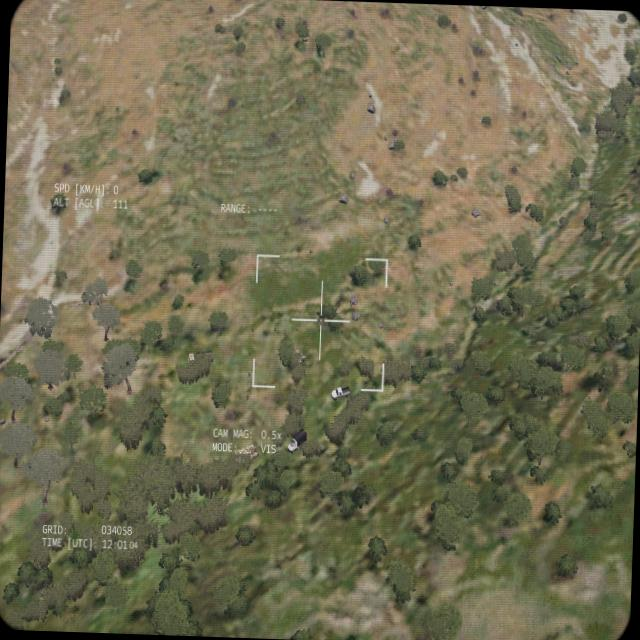apc: (284, 340, 306, 366)
car: (329, 382, 351, 404)
tank: (232, 440, 264, 464)
truck: (186, 347, 214, 370)
